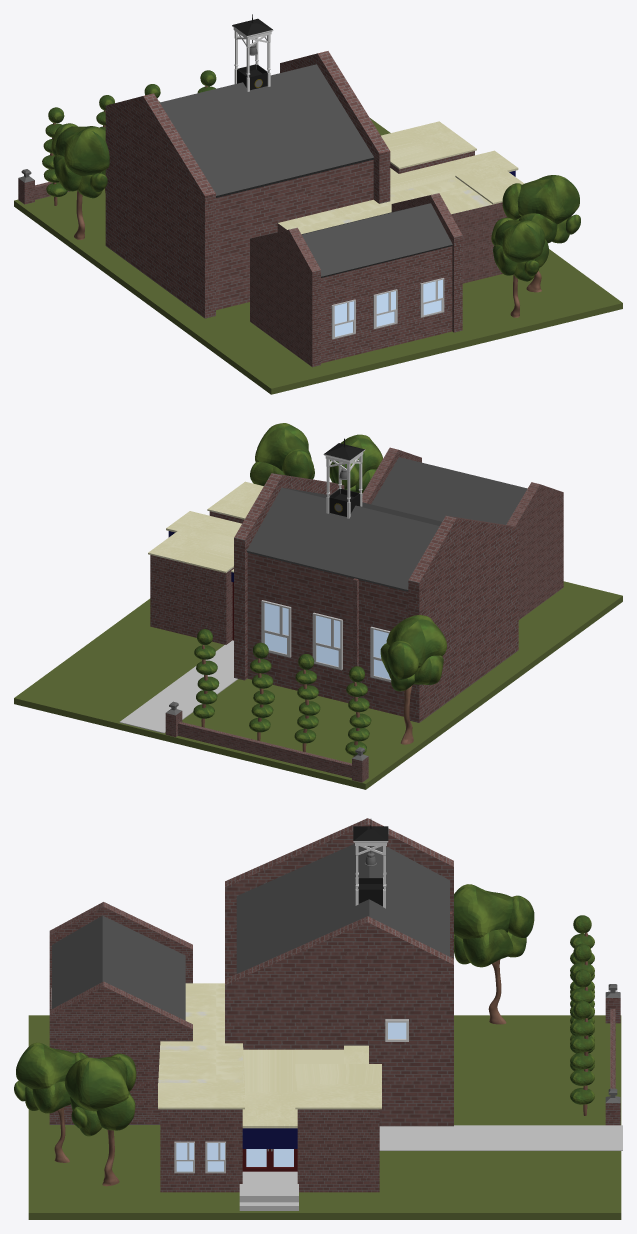
Rendered from Kerk-Sirjans.fbx.
3 views of the same model, one above another, from view 1: azimuth 30°, elevation 25°; view 2: azimuth 150°, elevation 25°; view 3: azimuth 270°, elevation 25° (orthographic). The views are drawn at different scales.
Parts seen in each view (by area): view 1: Cube.025, Cube.044, Cube.023, Cube.036, Cube.037, Cube.014, Icosphere.002, Icosphere.004, Cube.024, Cube.015, Icosphere.001, Cube.017 (+8 smaller); view 2: Cube.044, Cube.025, Cube.023, Cube.015, Cube.036, Cube.037, Icosphere.004, Cube.024, Cube.042, Cube.049, Icosphere.002, Cube.026 (+14 smaller); view 3: Cube.044, Cube.024, Cube.025, Cube.014, Cube.015, Cube.038, Cube.036, Cube.042, Cube.017, Icosphere.004, Cube.023, Icosphere.002 (+14 smaller).
Part boxes in pixels (x1,y1,x2,y2): Cube.025: [160, 64, 374, 309]; Cube.044: [14, 118, 622, 394]; Cube.023: [105, 93, 215, 318]; Cube.036: [301, 203, 452, 363]; Cube.037: [250, 227, 320, 367]; Cube.014: [277, 165, 524, 283]; Icosphere.002: [502, 175, 580, 292]; Icosphere.004: [51, 123, 109, 239]; Cube.024: [280, 51, 390, 203]; Cube.015: [381, 121, 476, 173]; Icosphere.001: [491, 217, 548, 317]; Cube.017: [390, 150, 518, 193]; Cube.044: [14, 581, 622, 789]; Cube.025: [246, 487, 441, 716]; Cube.023: [408, 515, 518, 722]; Cube.015: [148, 525, 234, 644]; Cube.036: [371, 457, 527, 524]; Cube.037: [506, 482, 563, 619]; Icosphere.004: [380, 615, 446, 744]; Cube.024: [234, 473, 344, 680]; Cube.042: [119, 640, 237, 733]; Cube.049: [165, 701, 351, 777]; Icosphere.002: [250, 423, 314, 485]; Cube.026: [312, 612, 342, 670]; Cube.044: [28, 1015, 621, 1219]; Cube.024: [225, 916, 453, 1126]; Cube.025: [236, 843, 449, 973]; Cube.014: [158, 983, 244, 1192]; Cube.015: [295, 1064, 381, 1192]; Cube.038: [49, 981, 192, 1124]; Cube.036: [52, 915, 185, 1020]; Cube.042: [379, 1125, 622, 1150]; Cube.017: [242, 1049, 343, 1148]; Icosphere.004: [454, 884, 534, 1024]; Cube.023: [225, 818, 453, 978]; Icosphere.002: [65, 1053, 136, 1186].
Size of the model in its own units: 3554 by 2226 by 4443.
